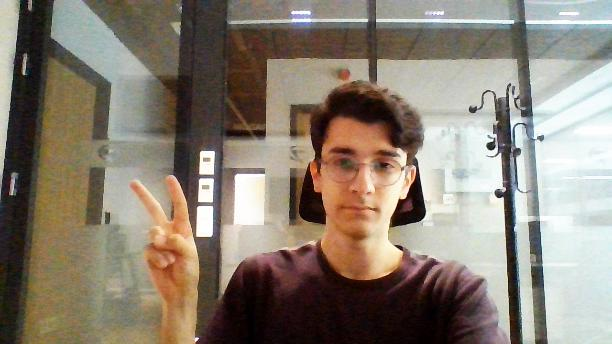Scissors: (127, 172, 202, 294)
